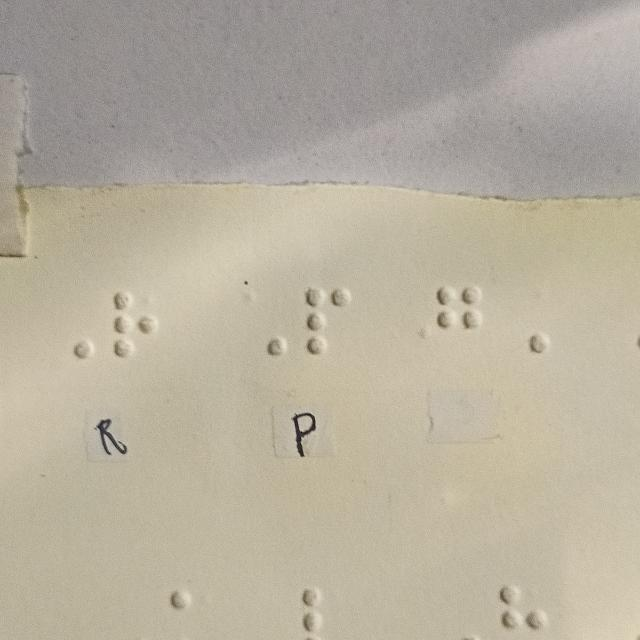P: (304, 285, 354, 356)
R: (112, 290, 161, 361)
capital: (241, 287, 290, 359), (47, 290, 96, 361)
g: (434, 282, 484, 353)
